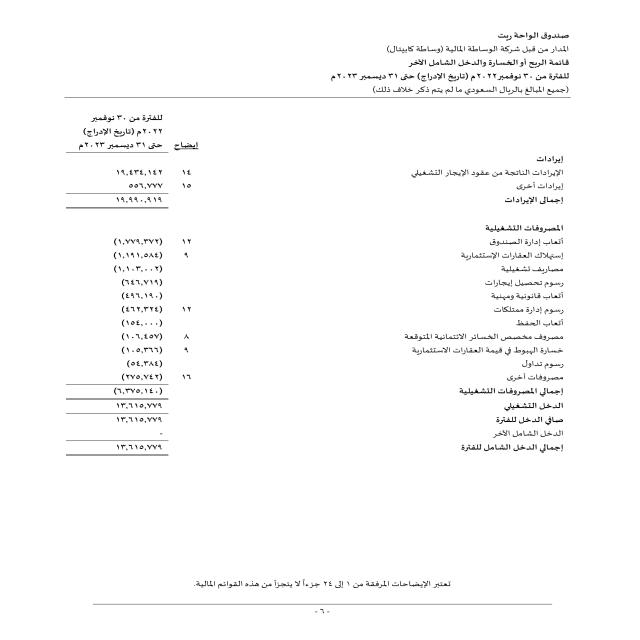financial_sheets: (396, 57, 579, 68)
table: (18, 110, 207, 476)
